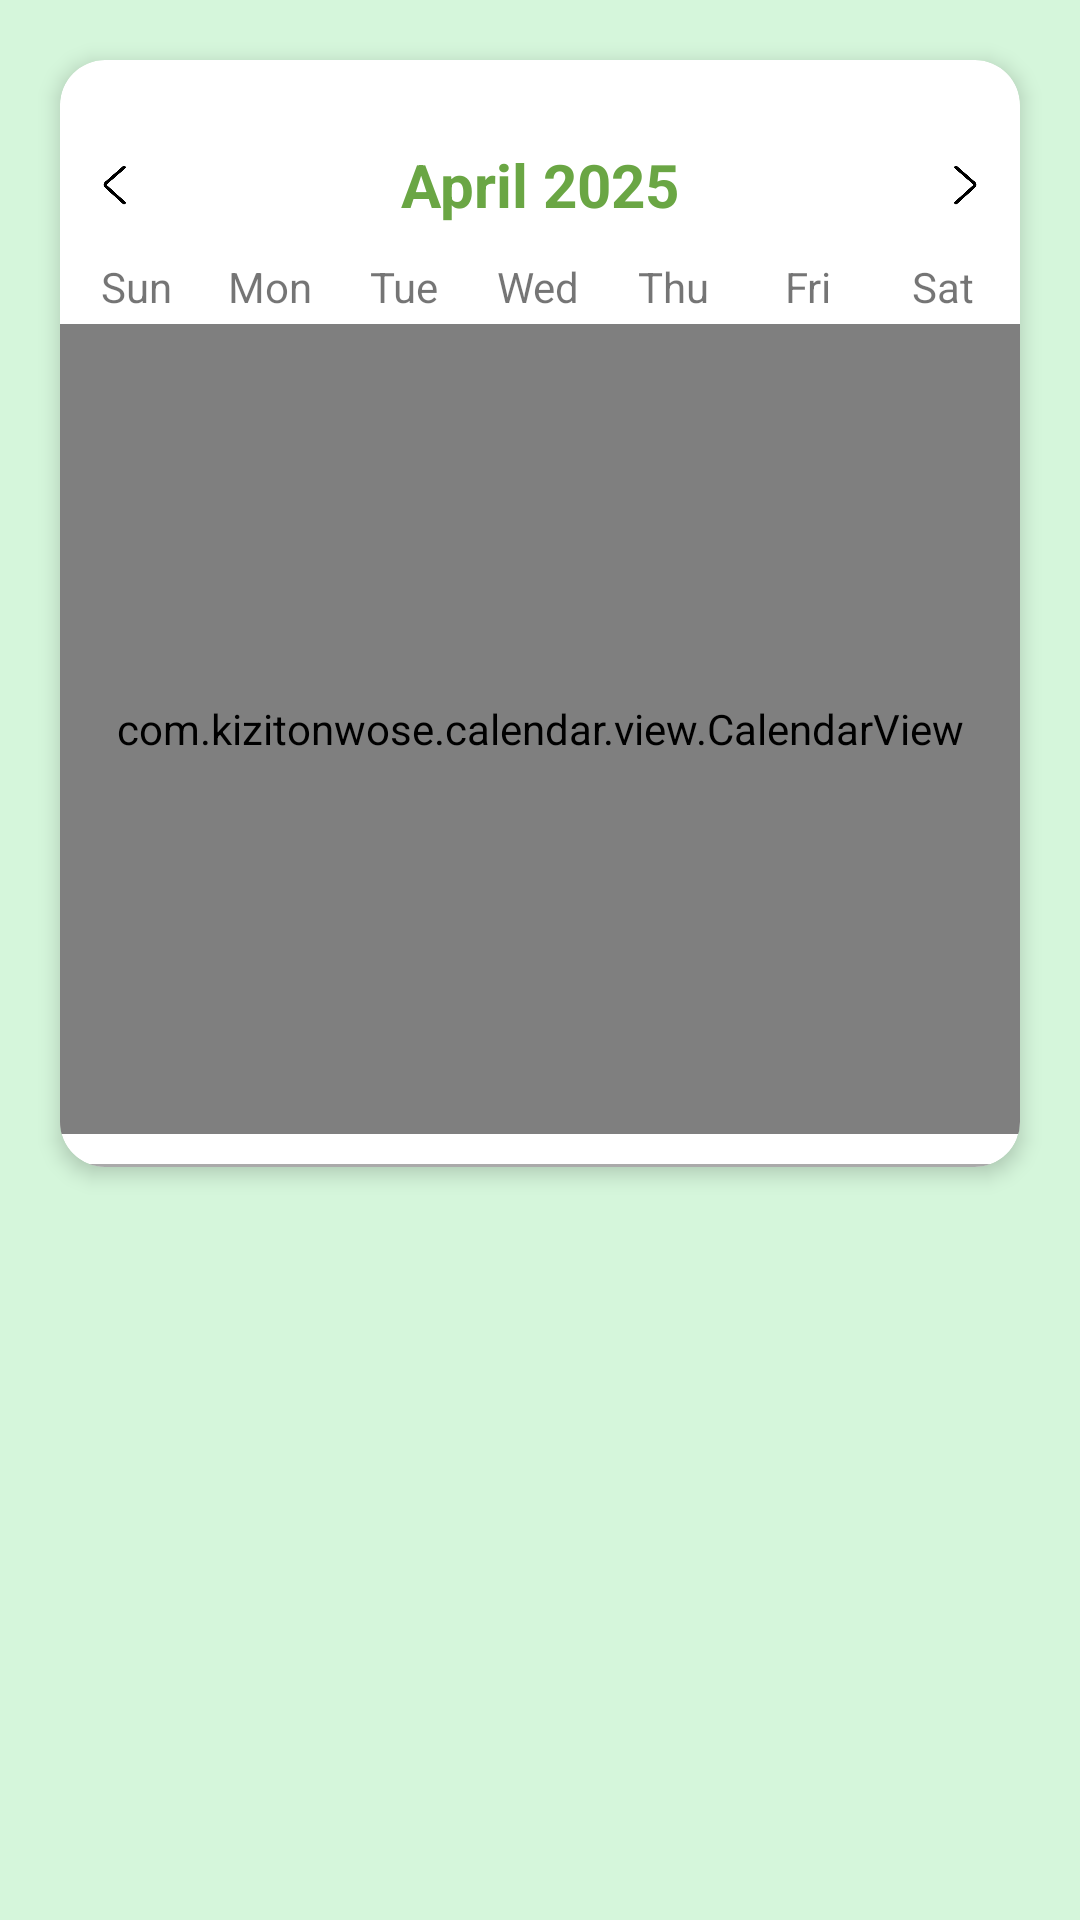

Named icons in this screenshot (1080×1920) and their centers, [x,y]:
calendar next: [965,185]
calendar prev: [114,185]
